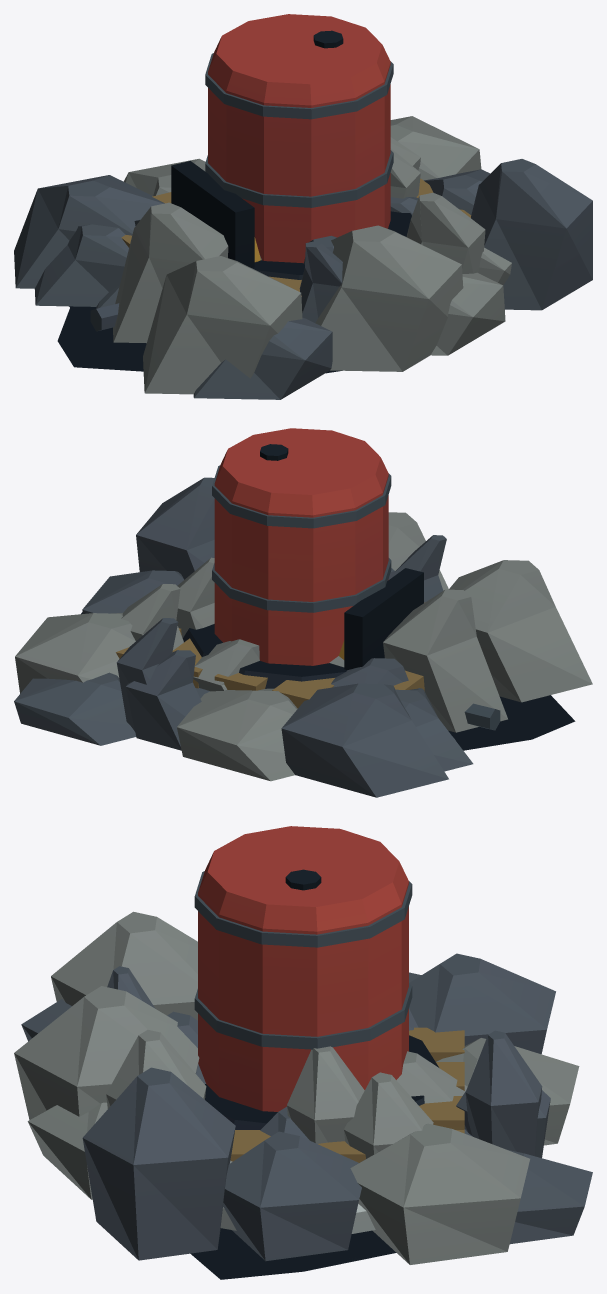
Rendered from ap_suelo_props.glb.
3 views of the same model, one above another, from view 1: azimuth 30°, elevation 25°; view 2: azimuth 150°, elevation 25°; view 3: azimuth 270°, elevation 25° (orthographic). The views are drawn at different scales.
Parts seen in each view (by area): view 1: bidon_1__malla, cascotes_3__malla, cascotes_2__malla, cascotes_1__malla, cono_tumbado__malla, mancha_aceite__malla, neumatico_1__malla, palé__malla, señal_caida_1__malla; view 2: cascotes_2__malla, bidon_1__malla, cascotes_3__malla, cascotes_1__malla, cono_tumbado__malla, mancha_aceite__malla, palé__malla, neumatico_1__malla, señal_caida_1__malla; view 3: cascotes_2__malla, bidon_1__malla, cascotes_3__malla, cascotes_1__malla, mancha_aceite__malla, palé__malla, neumatico_1__malla, señal_caida_2__malla.
Part boxes in pixels (x1,y1,x2,y2): bidon_1__malla: (205,14,393,263); cascotes_3__malla: (34,158,592,355); cascotes_2__malla: (14,116,490,394); cascotes_1__malla: (96,137,511,399); cono_tumbado__malla: (171,161,260,267); mancha_aceite__malla: (57,306,342,373); neumatico_1__malla: (252,211,411,279); palé__malla: (121,178,471,296); señal_caida_1__malla: (90,303,119,331); cascotes_2__malla: (15,557,592,797); bidon_1__malla: (212,428,391,665); cascotes_3__malla: (136,477,507,781); cascotes_1__malla: (14,512,454,745); cono_tumbado__malla: (338,568,423,669); mancha_aceite__malla: (81,612,575,750); palé__malla: (116,602,424,708); neumatico_1__malla: (182,624,384,688); señal_caida_1__malla: (464,703,500,730); cascotes_2__malla: (51,911,555,1264); bidon_1__malla: (194,826,412,1111); cascotes_3__malla: (27,966,579,1260); cascotes_1__malla: (14,986,592,1244); mancha_aceite__malla: (190,1228,396,1279); palé__malla: (230,1027,464,1162); neumatico_1__malla: (205,1035,438,1129); señal_caida_2__malla: (220,1204,375,1233).
Bounding box in the file's own units: 2.12 × 0.94 × 1.8.
Materials: 11 (11 with a texture image).
